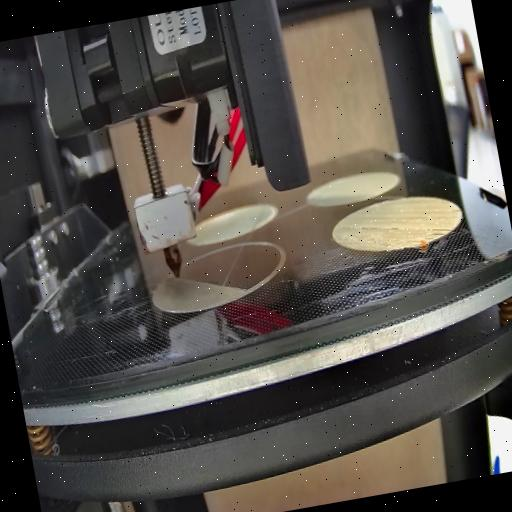under_extrusion: (342, 216, 398, 238), (420, 222, 452, 244), (445, 206, 461, 216)
